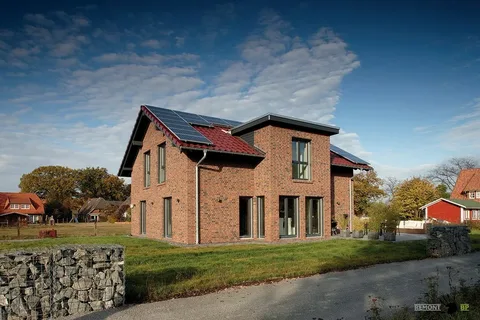private_hause: (122, 101, 367, 239)
